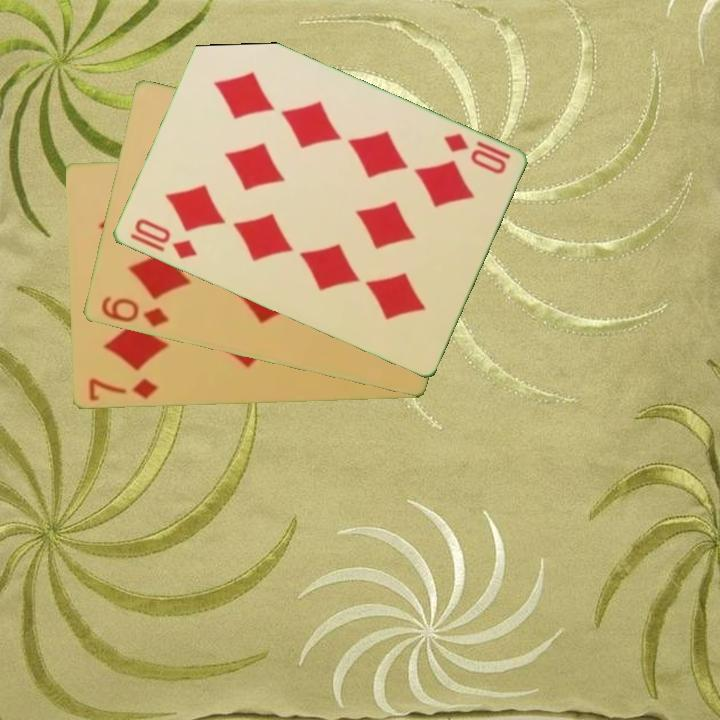10d: (439, 129, 509, 177), (130, 215, 200, 262)
6d: (97, 293, 171, 330)
7d: (85, 375, 160, 404)
